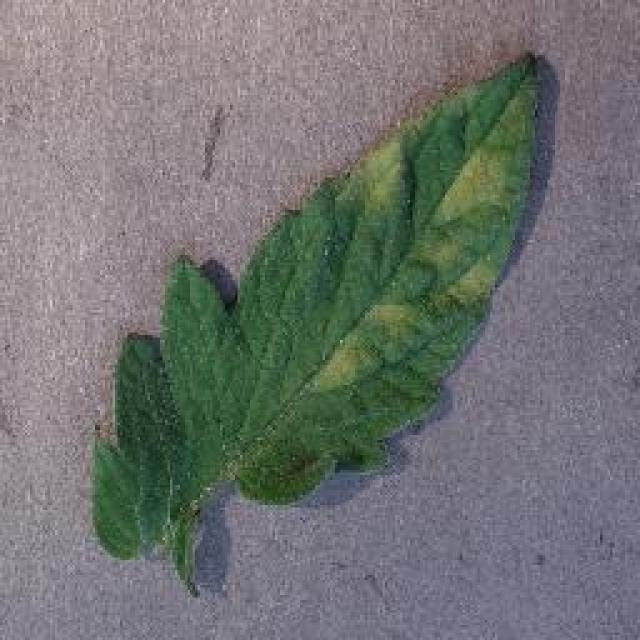Tomato mold leaf: (90, 51, 542, 562)
